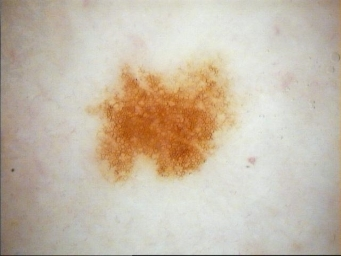nevus: (85, 52, 248, 184)
